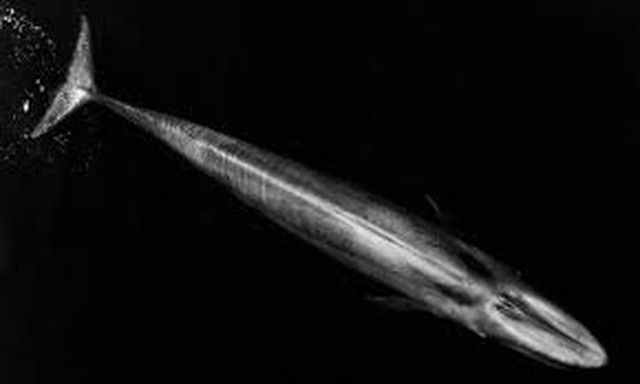whale: (25, 14, 609, 374)
